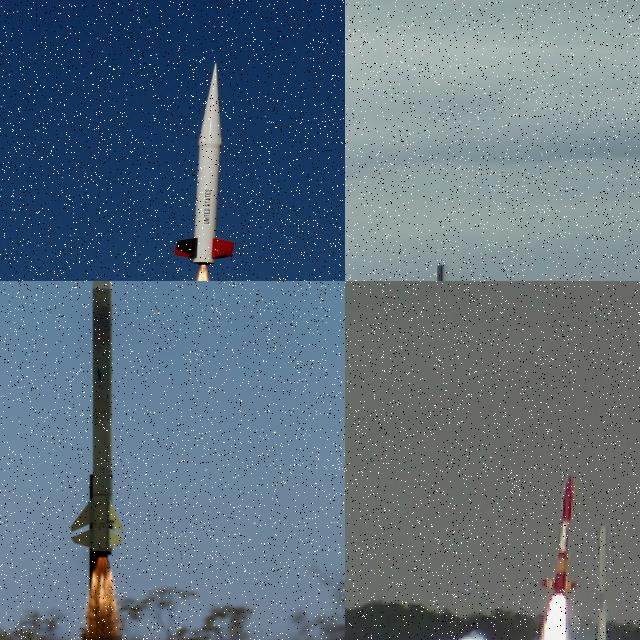Rocket: (71, 281, 126, 558), (174, 62, 234, 266), (538, 474, 578, 594)
